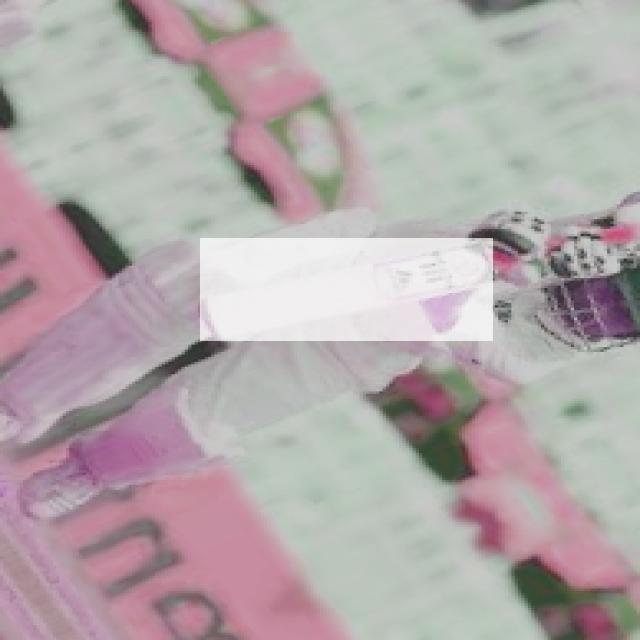bat: (201, 236, 495, 340)
